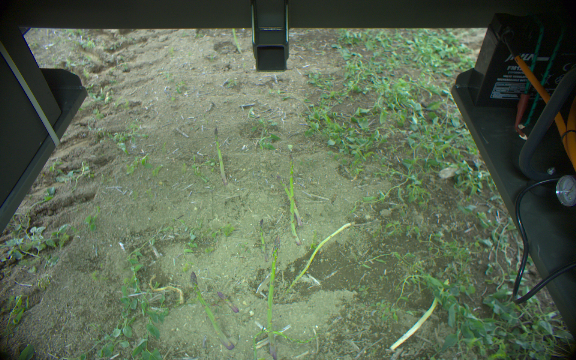aspa: (188, 272, 230, 351), (263, 232, 279, 360), (285, 150, 302, 248), (277, 176, 302, 227), (212, 126, 228, 190), (218, 287, 239, 315), (258, 216, 268, 259), (231, 28, 243, 56)
